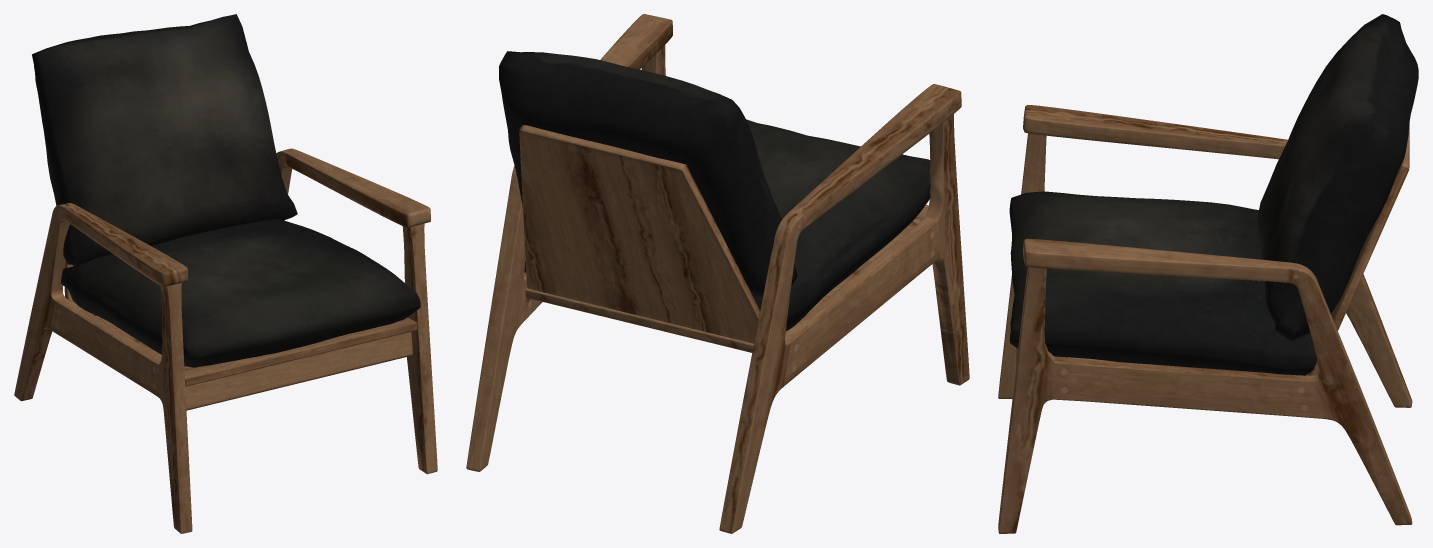
The model's file is ph-leather-armchair.glb.
The picture shows the model from 3 angles, left to right: view 1: azimuth 30°, elevation 25°; view 2: azimuth 150°, elevation 25°; view 3: azimuth 270°, elevation 25°; orthographic projection. The views are drawn at different scales.
Visible parts, largest first — view 1: modern_arm_chair_01; view 2: modern_arm_chair_01; view 3: modern_arm_chair_01.
Part boxes in pixels (box(x1,y1,x2,y2)): modern_arm_chair_01: box(14, 14, 437, 533); modern_arm_chair_01: box(466, 14, 969, 533); modern_arm_chair_01: box(998, 14, 1418, 533).
Size of the model in its own units: 0.8203 by 1.02 by 0.9865.
Materials: 2 (2 with a texture image).
